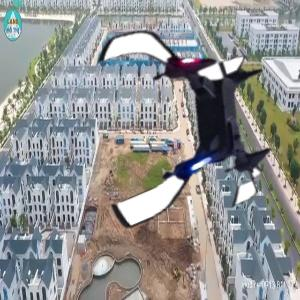drone: (73, 13, 288, 228)
